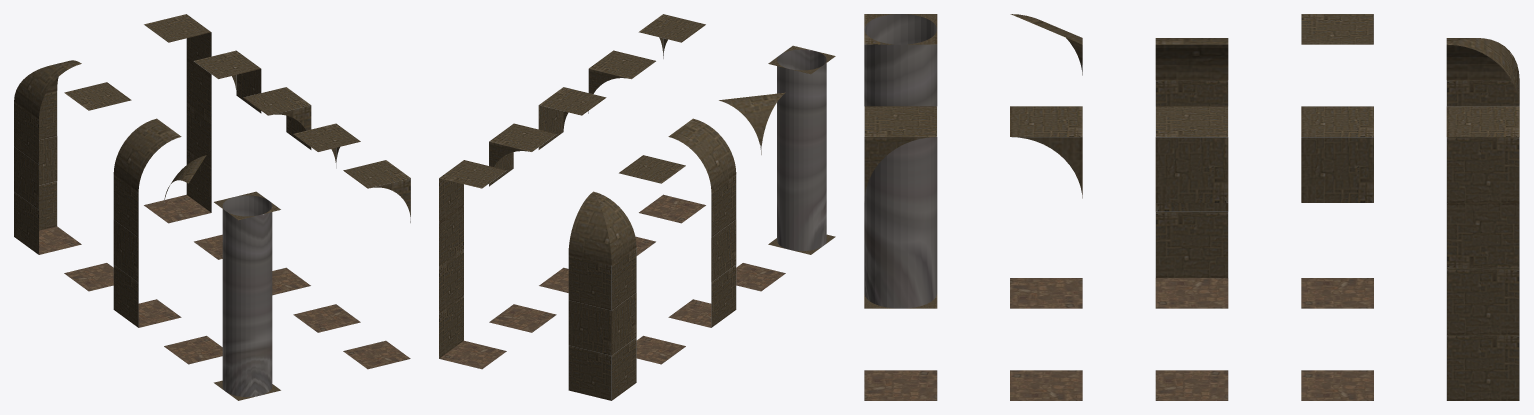
Rendered from Dungeon Tiles.glb.
3 views of the same model, side by side, from view 1: azimuth 30°, elevation 25°; view 2: azimuth 150°, elevation 25°; view 3: azimuth 270°, elevation 25° (orthographic). The views are drawn at different scales.
Parts seen in each view (by area): view 1: Pillar.col, Cornr2.col, SideSmooth.col, SideSolid.col, EntA2.col, EntB.col, EntA.col, EntB2.col, GndCeil.col, Cornr.col; view 2: Cornr2.col, Pillar.col, SideSmooth.col, SideSolid.col, EntB2.col, EntB.col, EntA2.col, Cornr.col, GndCeil.col, EntA.col; view 3: SideSolid.col, Pillar.col, SideSmooth.col, EntB.col, EntB2.col, EntA2.col, EntA.col, Cornr2.col, GndCeil.col, Cornr.col.
Part boxes in pixels (x1,y1,x2,y2): Pillar.col: (213,191,280,400); Cornr2.col: (14,60,81,254); SideSmooth.col: (113,118,181,327); SideSolid.col: (144,14,211,223); EntA2.col: (343,160,410,369); EntB.col: (243,87,311,295); EntA.col: (293,123,360,332); EntB2.col: (194,50,261,259); GndCeil.col: (64,82,131,291); Cornr.col: (163,155,222,364); Cornr2.col: (568,191,636,400); Pillar.col: (768,45,835,254); SideSmooth.col: (668,118,736,327); SideSolid.col: (439,160,506,369); EntB2.col: (489,123,556,332); EntB.col: (538,87,606,292); EntA2.col: (638,14,705,223); Cornr.col: (719,92,785,291); GndCeil.col: (619,155,685,364); EntA.col: (588,50,655,255); SideSolid.col: (1446,106,1519,400); Pillar.col: (864,14,937,308); SideSmooth.col: (1155,38,1228,308); EntB.col: (1155,106,1228,400); EntB2.col: (1301,106,1373,400); EntA2.col: (864,106,937,400); EntA.col: (1010,106,1082,400); Cornr2.col: (1446,38,1519,106); GndCeil.col: (1301,14,1373,308); Cornr.col: (1010,14,1082,308).
Size of the model in its own units: 4 by 4 by 9.
Materials: 2 (2 with a texture image).
